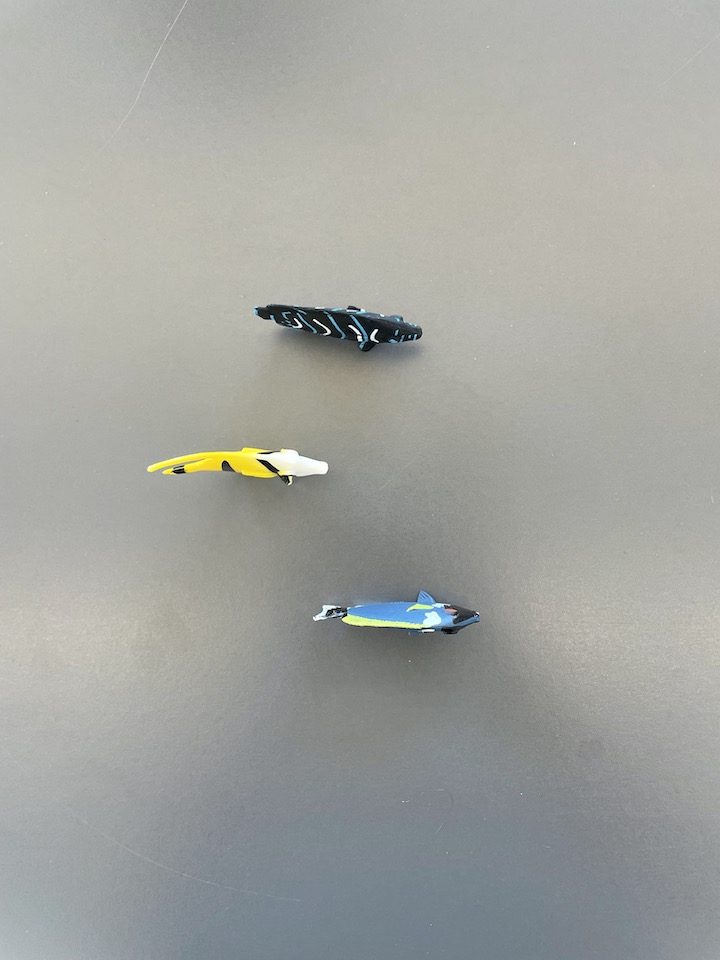danger: (143, 443, 333, 487)
fish: (248, 300, 428, 356), (309, 587, 484, 643)
